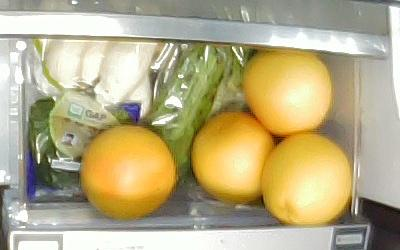grapefruit: (80, 123, 178, 219), (261, 133, 351, 224), (192, 113, 284, 202), (242, 49, 331, 136)
